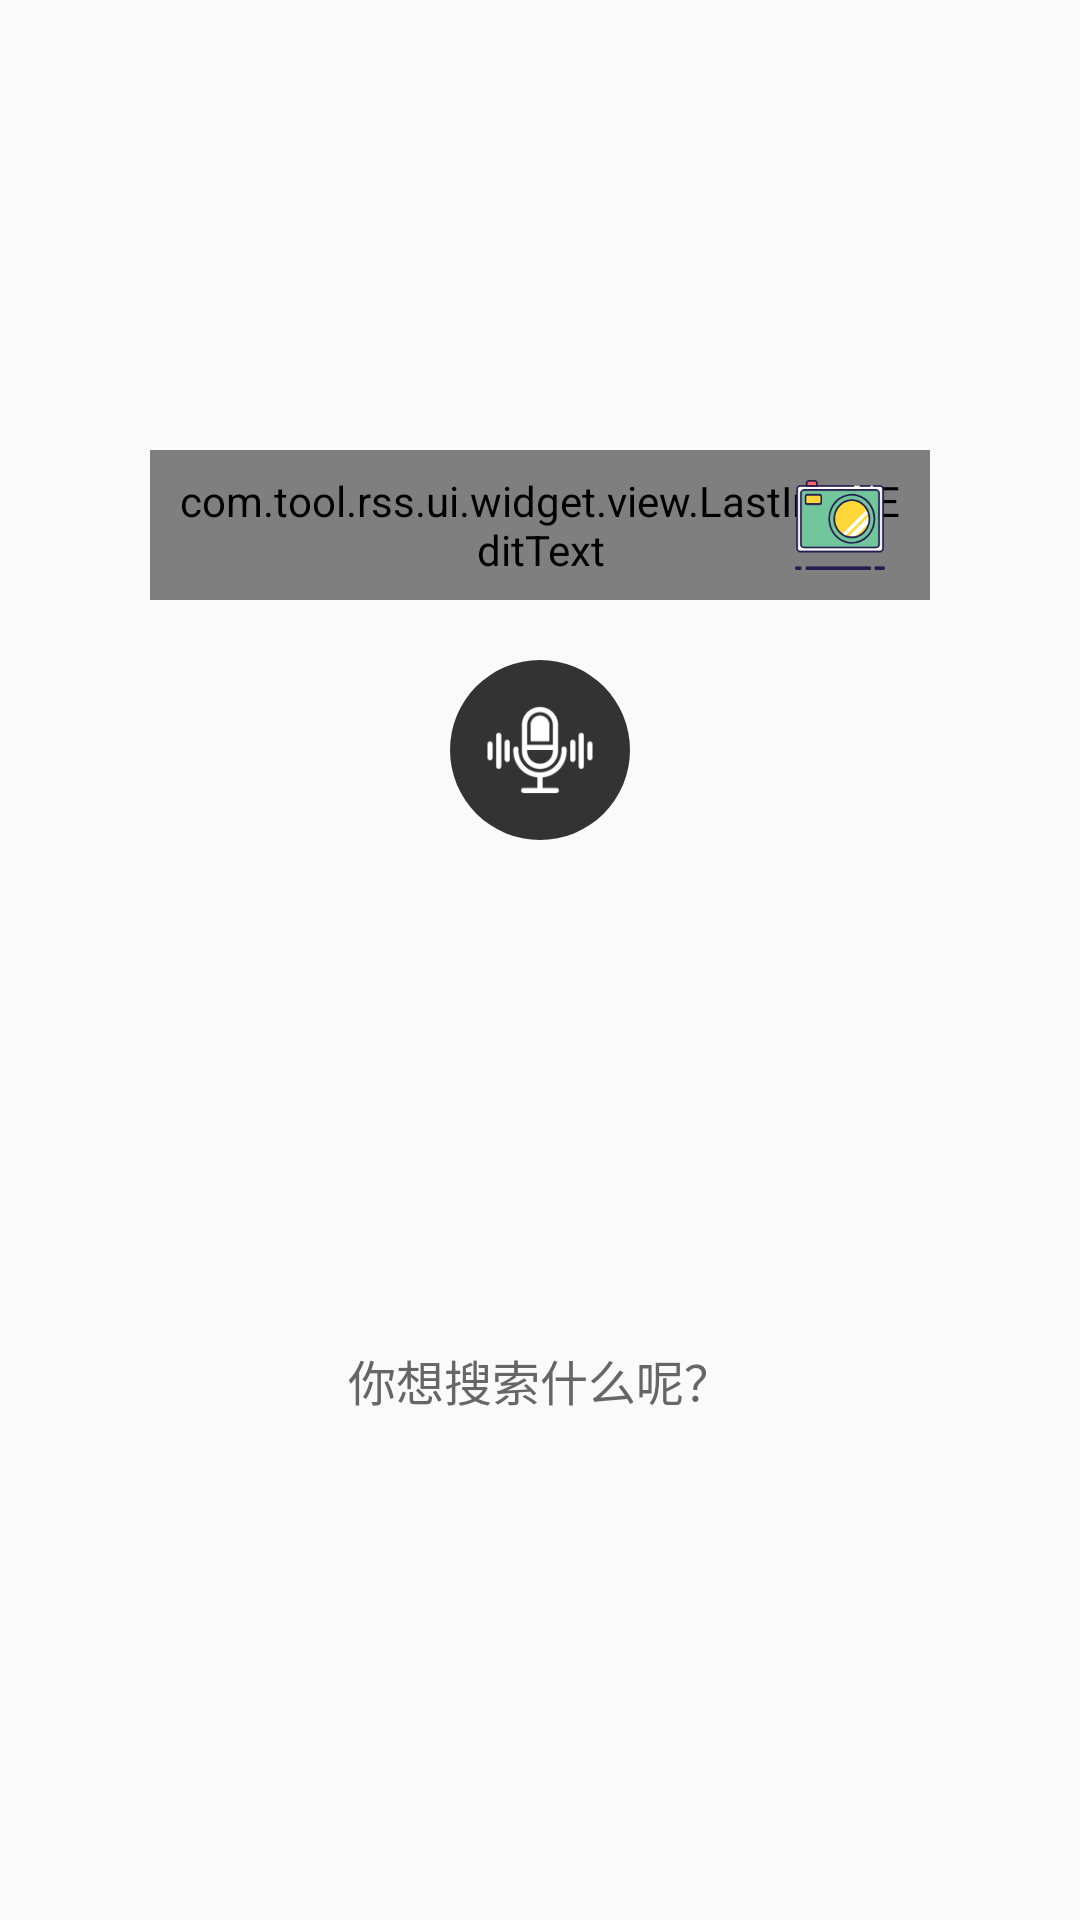

Point at icon controls on the screen. Image size 1080x1920, points as (x,y).
search camera: (840,525)
voice home: (540,750)
